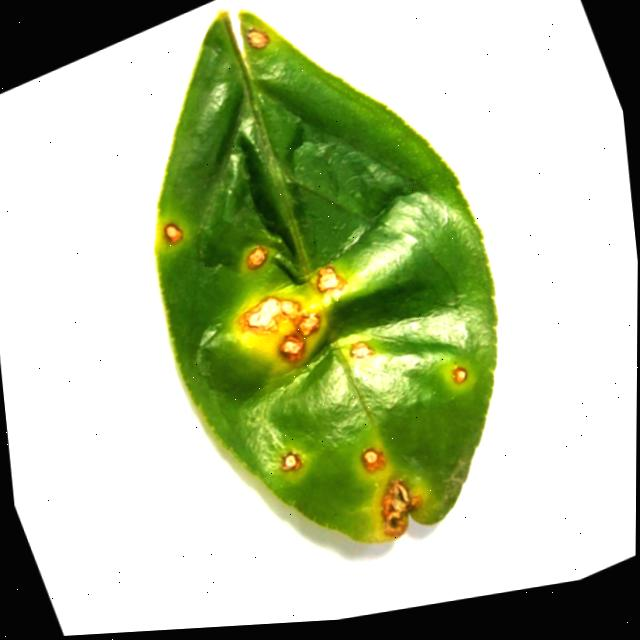antracnose: (155, 10, 496, 541), (240, 295, 319, 334), (381, 478, 421, 536), (316, 264, 346, 290), (280, 333, 304, 359), (361, 447, 385, 470), (247, 244, 267, 268), (247, 27, 269, 46), (350, 340, 374, 357), (164, 223, 183, 242), (281, 451, 301, 469), (452, 365, 468, 383)
